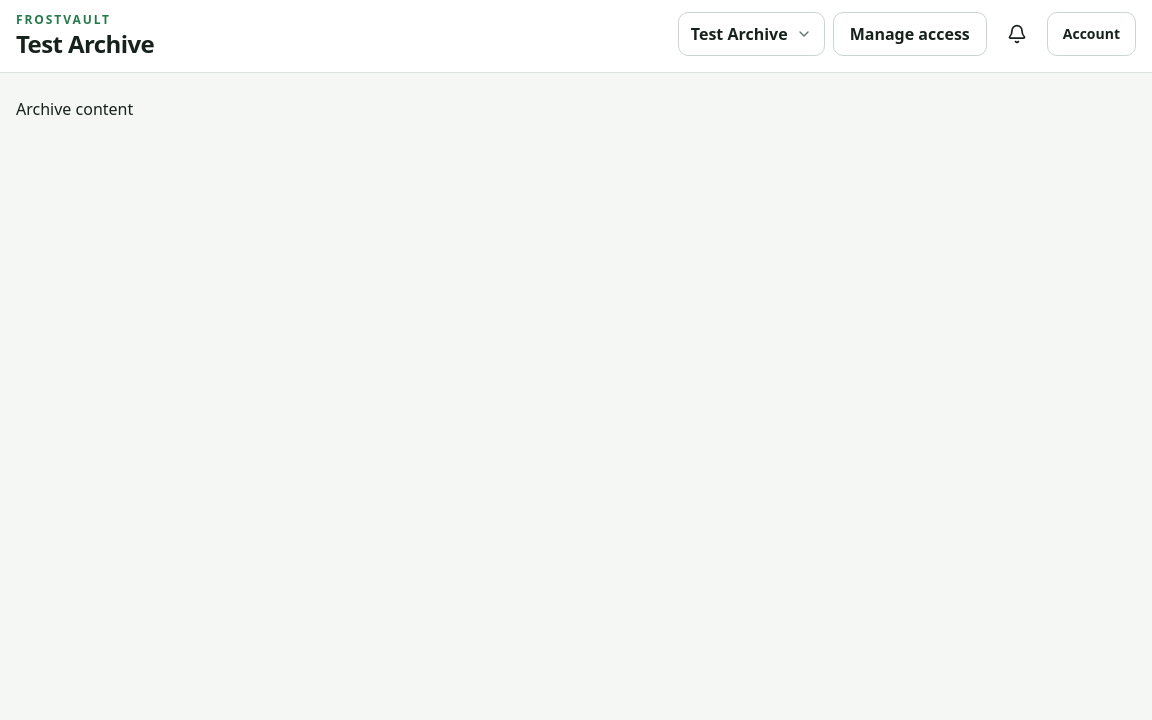
Test: notification preferences surface (#226) › exposes preferences from the account menu with unambiguous Vault context
This screenshot has width=1152, height=720.
What coordinates should you click on to do the following:
click the button with aria-label "Open account menu"
I would click on:
 (1091, 34)
Its box is [1047,12,1136,56].
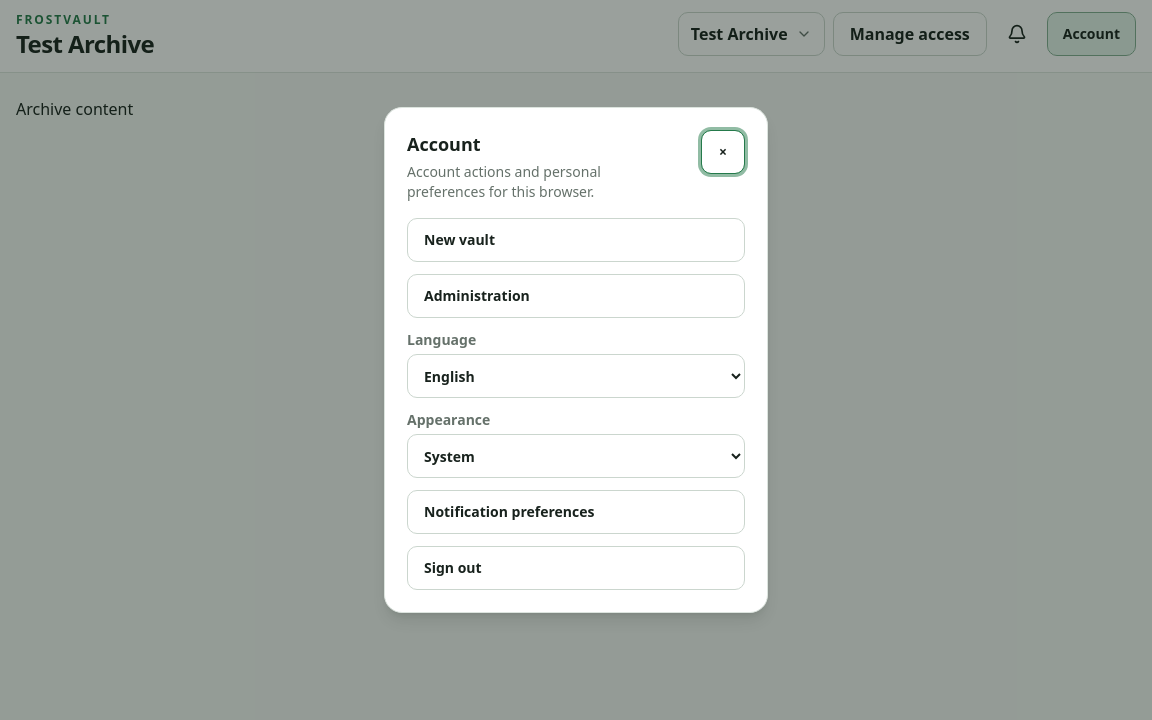
What coordinates should you click on to do the following:
click the button "Notification preferences"
I would click on:
 (576, 512)
Its box is [407,490,745,534].
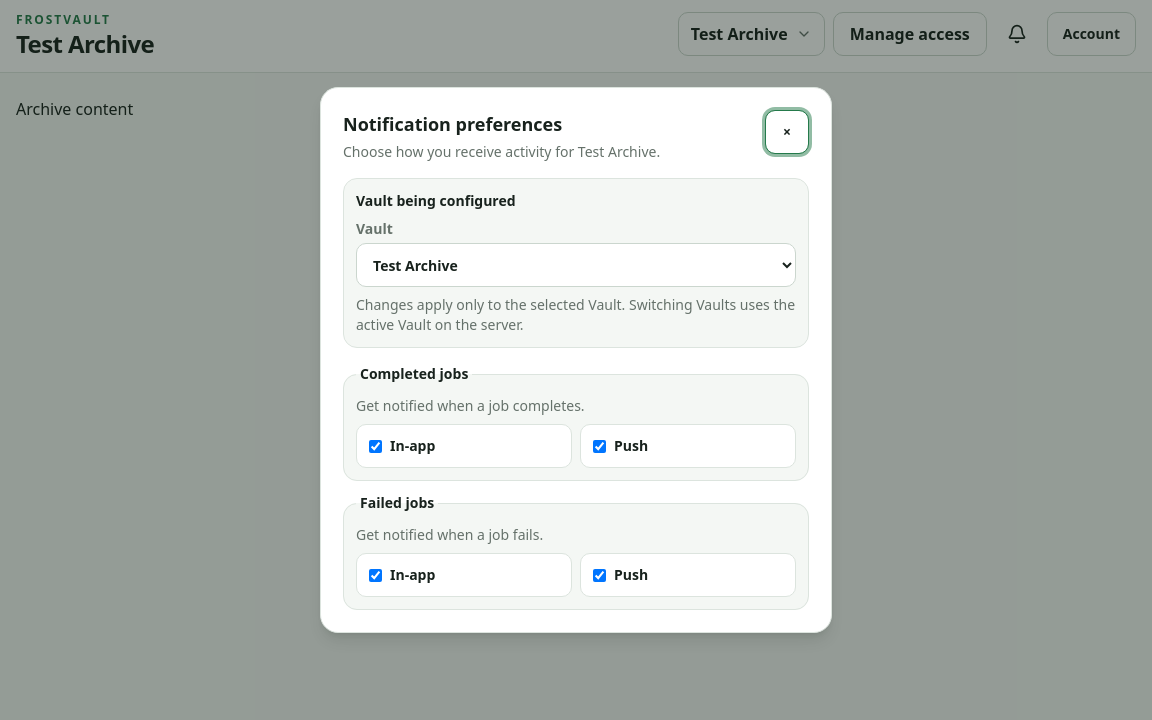
Check: the dropdown labelled "Vault" shows "Test Archive", box [356,243,796,287]
Check: the checkbox named "Completed jobs: In-app" is shown, box [369,440,382,452]
Check: the number of checkboxes is 4, box [369,440,382,452]; [593,440,606,452]; [369,568,382,582]; [593,568,606,582]
